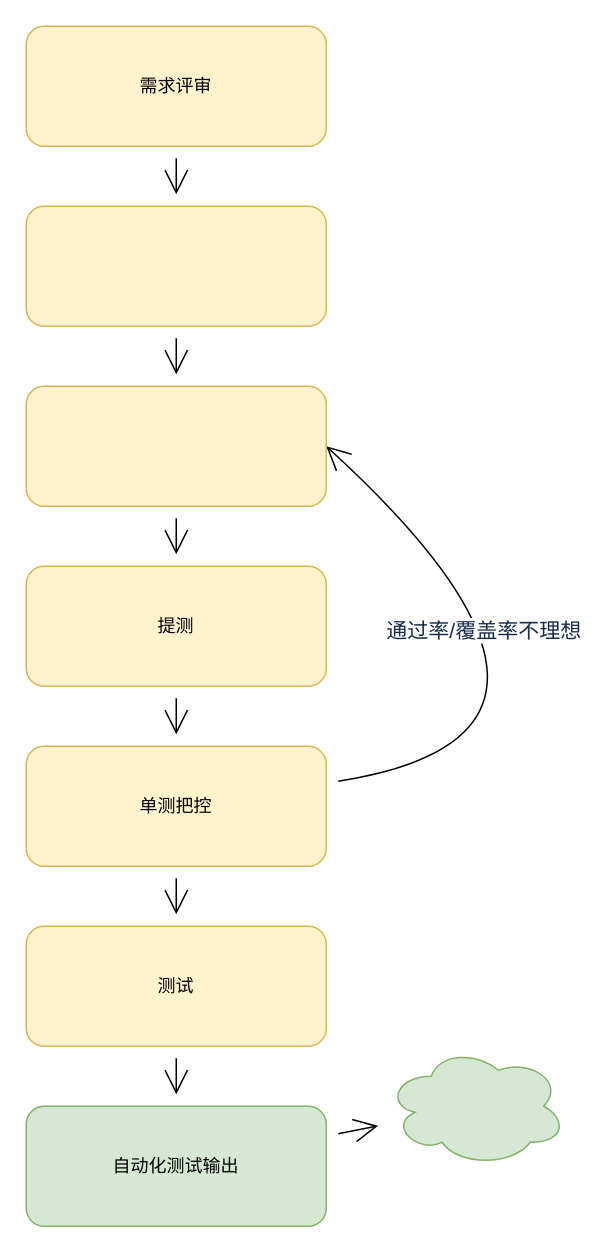
Image size: 608x1253. Some labels were removed from this diagram. Here are the shapes that lost their labels. From the top down, the centre of each, then its label:
At point 175,265: "用例评审 贴合业务模型".
At point 175,445: "开发".
At point 475,1105: "通用业务必须".
